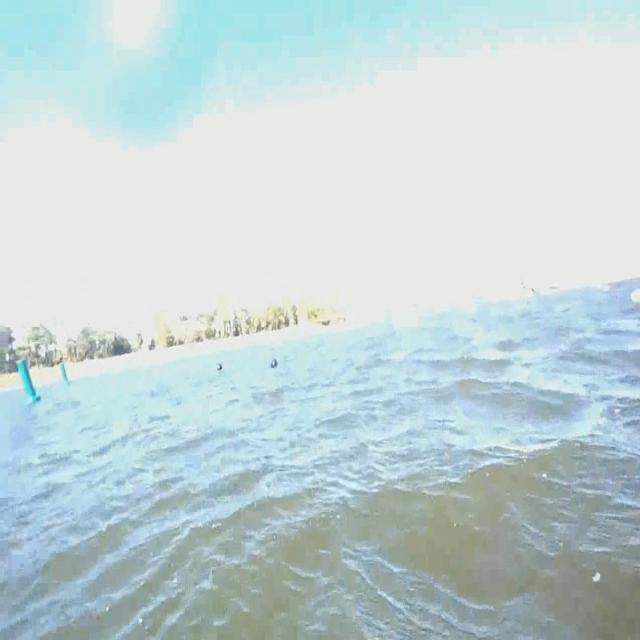black-buoy: (270, 360, 278, 369), (217, 364, 223, 372)
green-column-buoy: (15, 360, 41, 403), (58, 364, 74, 386)
